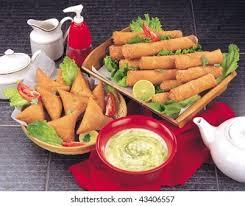samosa: (17, 67, 112, 141)
spring rolls: (106, 23, 223, 98)
